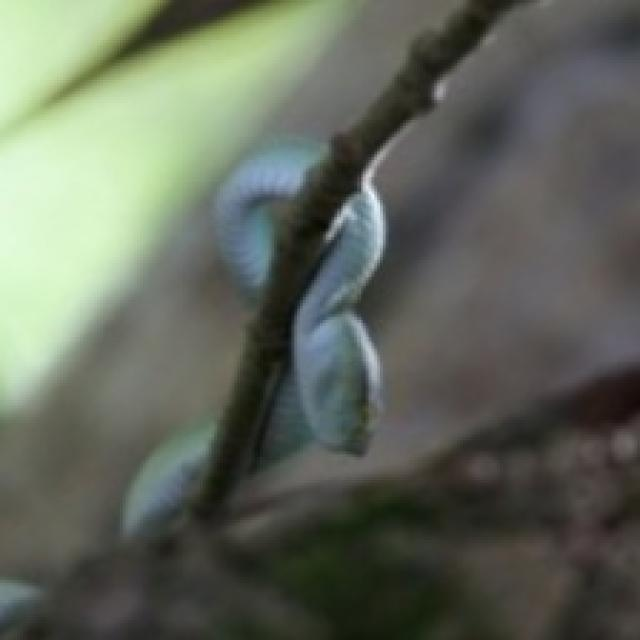north ph temple pitviper: (263, 174, 383, 457), (214, 143, 317, 289), (120, 426, 209, 534)
